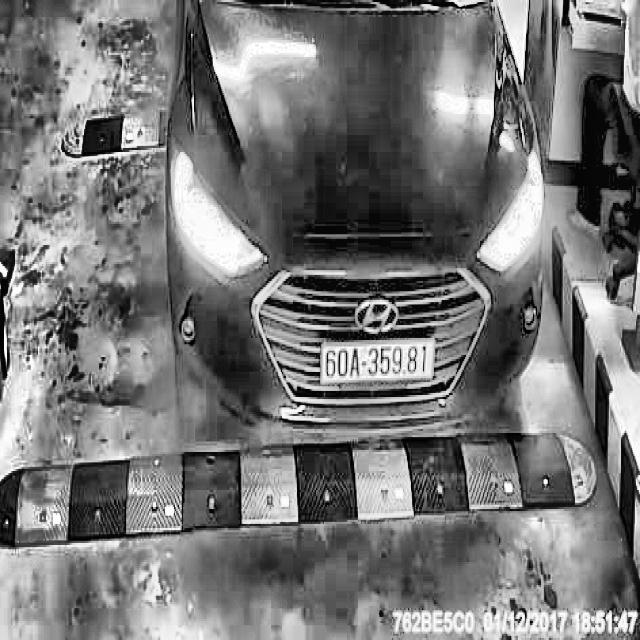plate: (316, 334, 440, 394)
